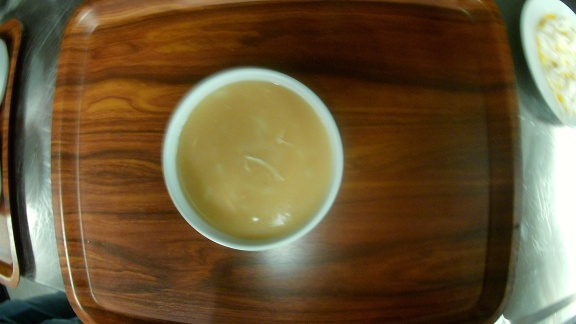tavukcorba: (158, 66, 348, 254)
